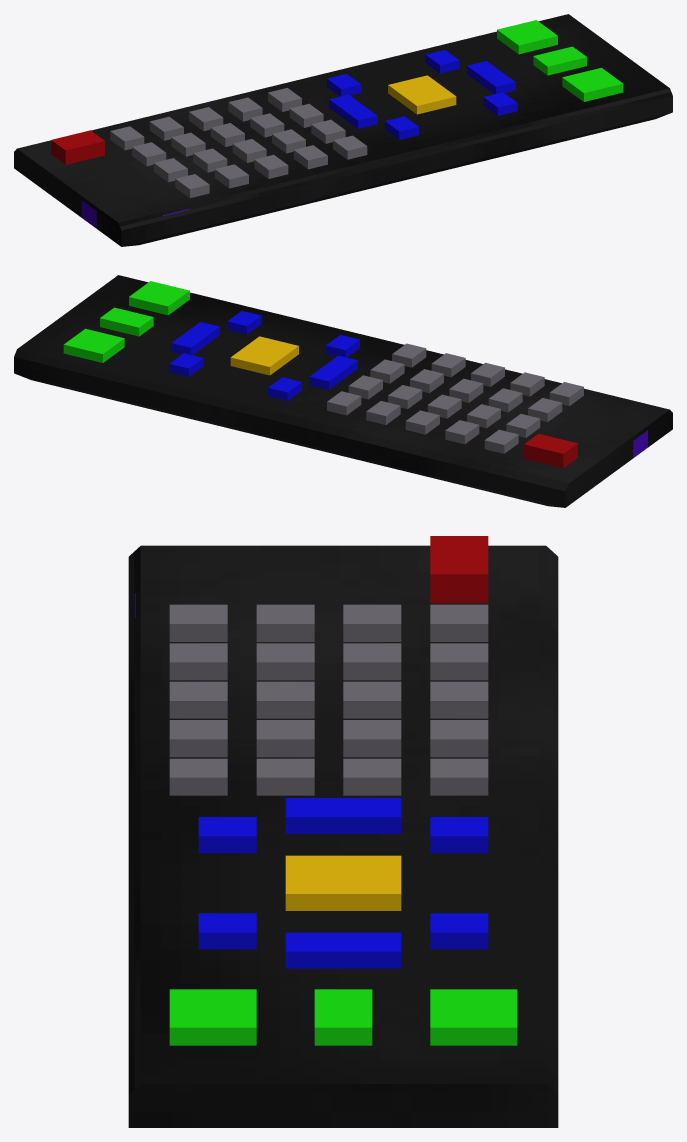
File: remote.glb
3 views of the same model, one above another, from view 1: azimuth 30°, elevation 25°; view 2: azimuth 150°, elevation 25°; view 3: azimuth 270°, elevation 25° (orthographic). The views are drawn at different scales.
Parts seen in each view (by area): view 1: Cube, Cube.003, Cube.004, Cube.006, Cube.005, Cube.002; view 2: Cube, Cube.003, Cube.004, Cube.006, Cube.005, Cube.002; view 3: Cube, Cube.003, Cube.004, Cube.006, Cube.005, Cube.002.
Boxes of the visible parts, <box> form: Cube: <box>14,14,672,246</box>; Cube.003: <box>110,88,367,197</box>; Cube.004: <box>327,50,517,139</box>; Cube.006: <box>497,20,623,101</box>; Cube.005: <box>388,75,456,114</box>; Cube.002: <box>51,130,104,164</box>; Cube: <box>14,275,672,507</box>; Cube.003: <box>327,343,583,453</box>; Cube.004: <box>169,311,359,400</box>; Cube.006: <box>63,281,189,362</box>; Cube.005: <box>230,336,298,375</box>; Cube.002: <box>524,433,577,468</box>; Cube: <box>128,545,558,1127</box>; Cube.003: <box>169,604,488,795</box>; Cube.004: <box>198,798,488,968</box>; Cube.006: <box>169,989,517,1045</box>; Cube.005: <box>285,855,401,910</box>; Cube.002: <box>430,536,488,603</box>.
Bounding box in the file's own units: 0.4204 × 0.0305 × 0.1418.
6 materials, 1 textured.
